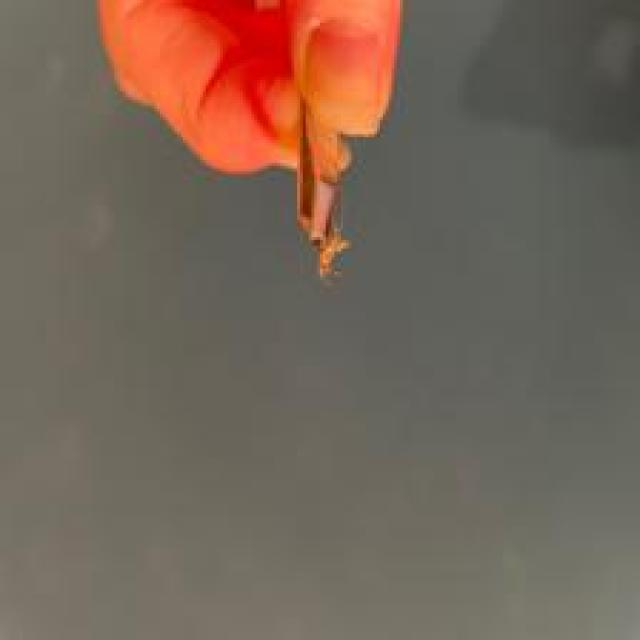Culex: (96, 0, 404, 283)
